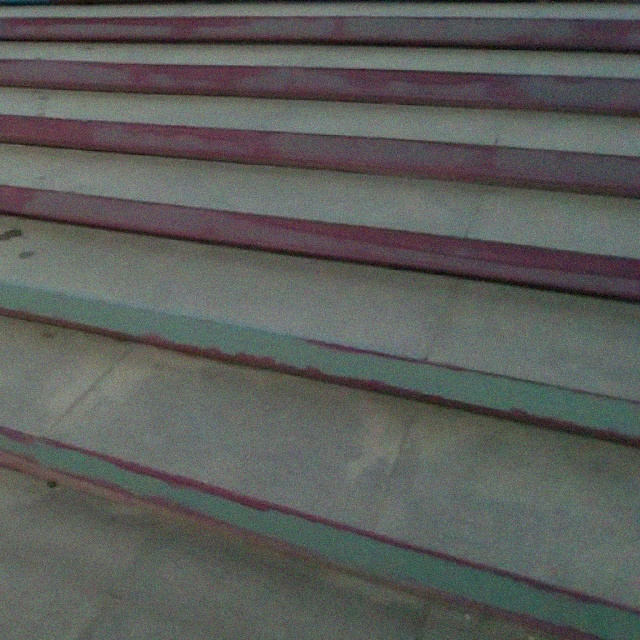stair: (19, 0, 640, 572)
